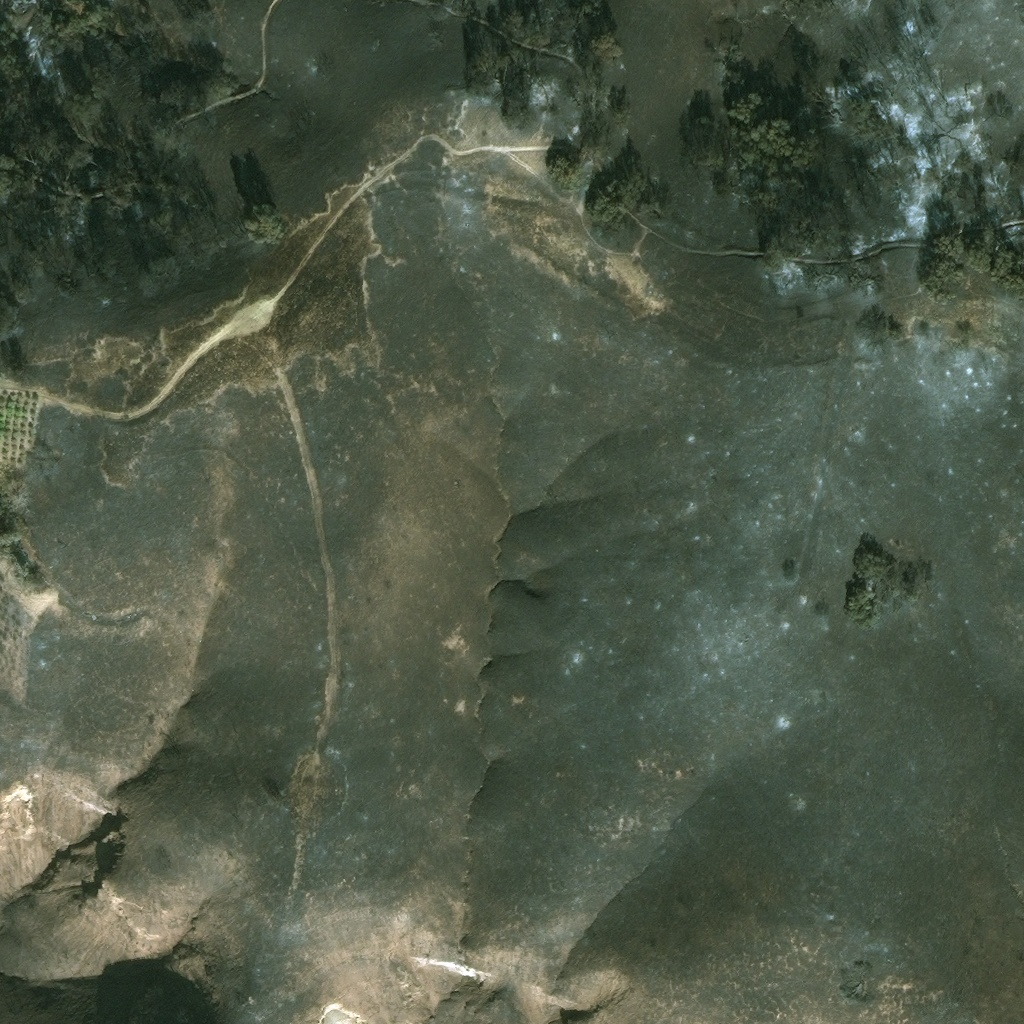3 destroyed: (14, 544, 36, 569)
